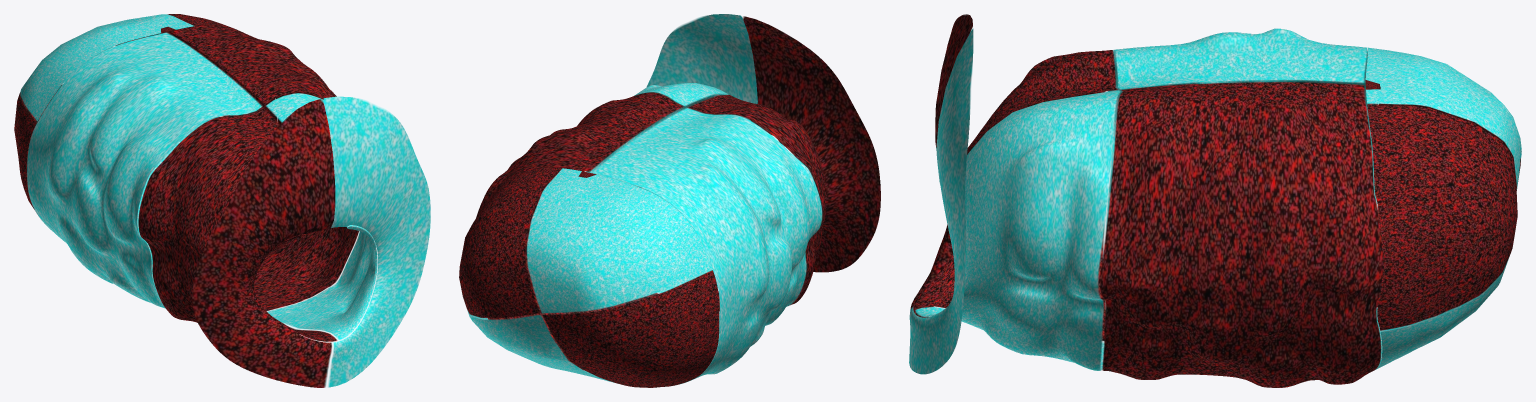
3 views of the same model, side by side, from view 1: azimuth 30°, elevation 25°; view 2: azimuth 150°, elevation 25°; view 3: azimuth 270°, elevation 25° (orthographic). The views are drawn at different scales.
Parts seen in each view (by area): view 1: SM_Kuldra_Walls_LOD0; view 2: SM_Kuldra_Walls_LOD0; view 3: SM_Kuldra_Walls_LOD0.
Part boxes in pixels (x1,y1,x2,y2): SM_Kuldra_Walls_LOD0: (14, 14, 430, 387); SM_Kuldra_Walls_LOD0: (459, 14, 880, 387); SM_Kuldra_Walls_LOD0: (909, 14, 1521, 387).
Bounding box in the file's own units: 32.58 × 30.64 × 49.79.
1 material, 1 textured.
